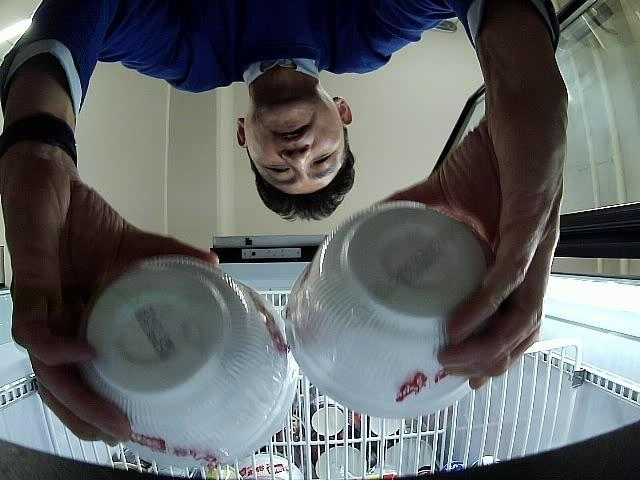09_yukGaeJang: (83, 255, 299, 466), (288, 202, 496, 418)
